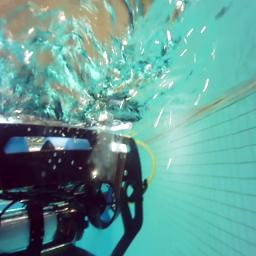Side: (0, 113, 145, 256)
